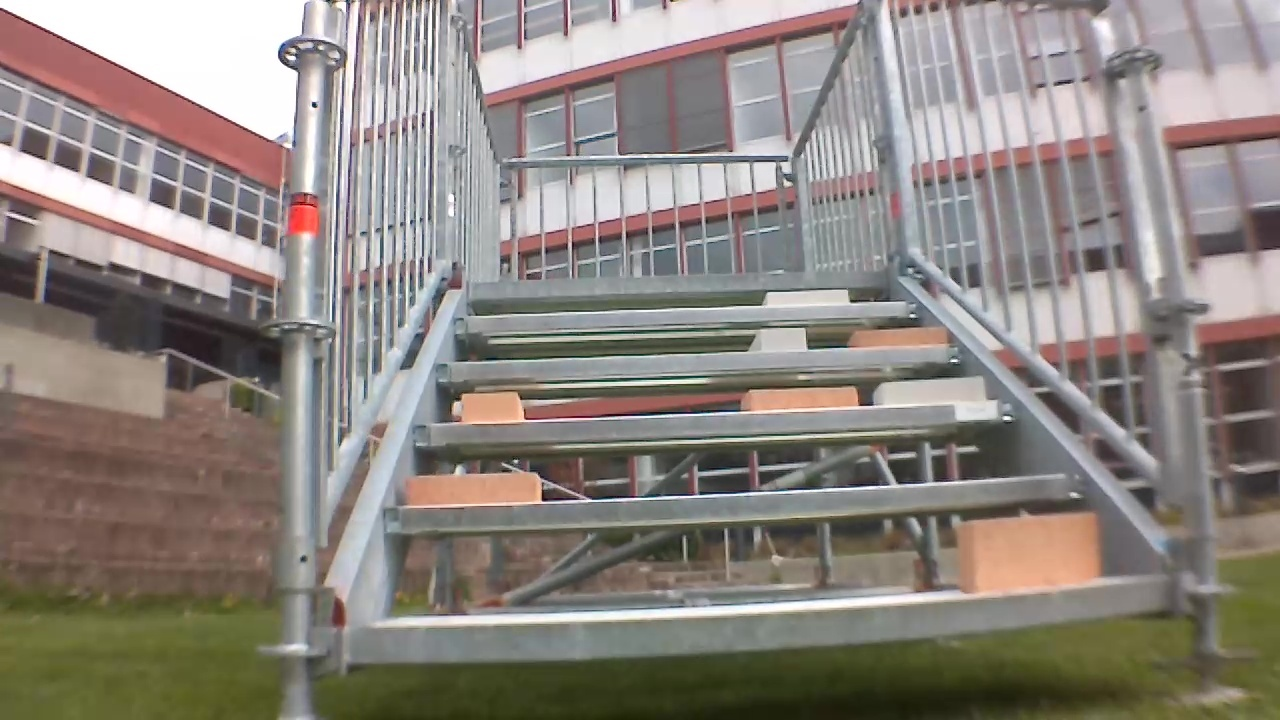brick: (957, 513, 1099, 592), (406, 472, 541, 504), (874, 377, 983, 404), (741, 388, 856, 409), (462, 391, 522, 421), (848, 328, 942, 345), (749, 328, 805, 350), (761, 291, 848, 304)
edge: (355, 579, 1171, 662), (383, 476, 1086, 527), (415, 401, 1011, 444), (437, 345, 963, 378), (454, 302, 922, 332), (473, 269, 890, 296)
stairs: (262, 1, 1241, 712)
steps: (337, 263, 1183, 683)
